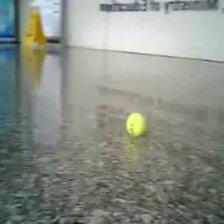tennis: (126, 113, 145, 137)
